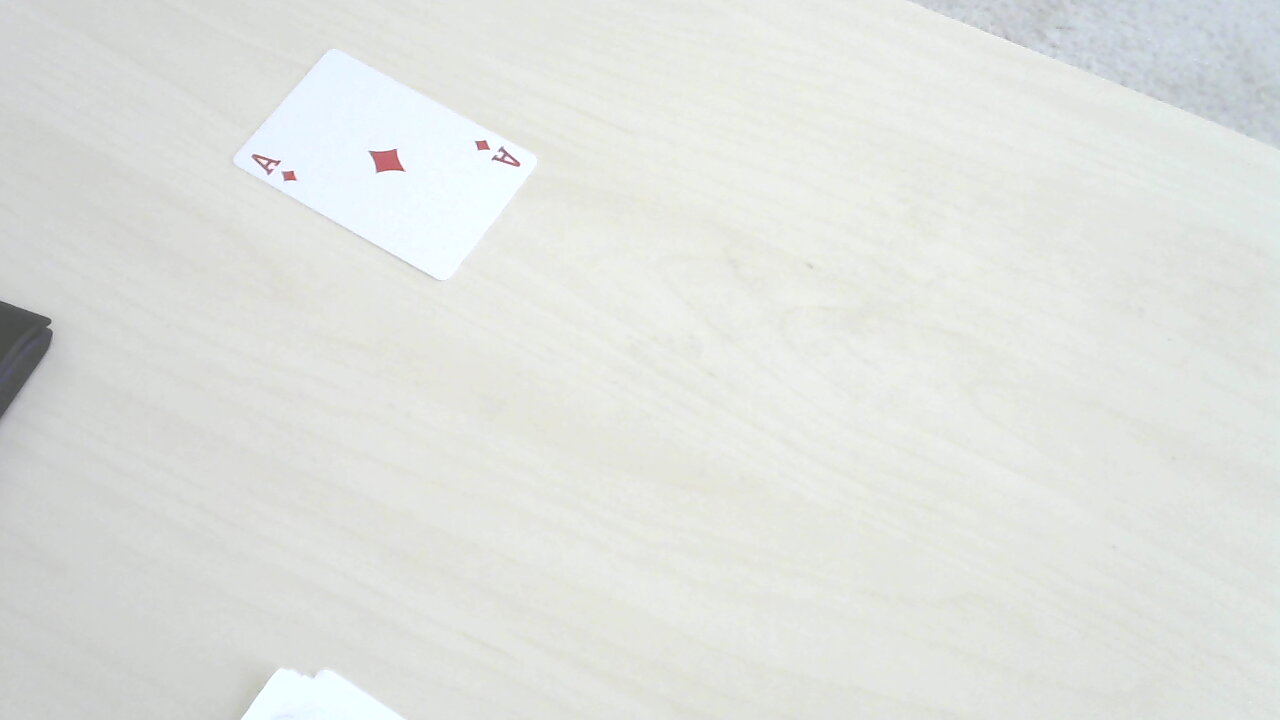one: (248, 137, 520, 186)
